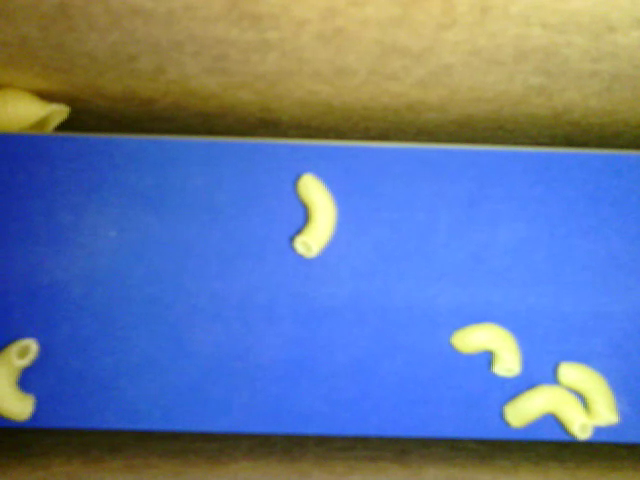elbow: (501, 382, 592, 440), (444, 322, 522, 378), (290, 171, 338, 260), (556, 361, 620, 426), (1, 336, 42, 427)
shell: (1, 88, 72, 132)
